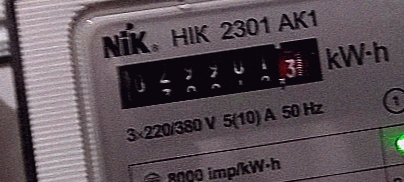0: (229, 50, 247, 77), (130, 71, 149, 94)
1: (254, 48, 270, 72)
2: (155, 65, 173, 86)
3: (283, 55, 299, 79)
9: (205, 56, 222, 79), (180, 60, 195, 83)
screen: (102, 25, 336, 120)
